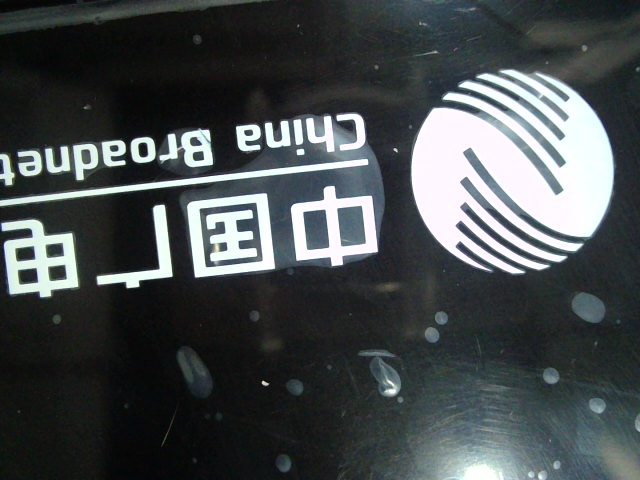AW_ChinaBroadNet: (4, 66, 616, 310)
